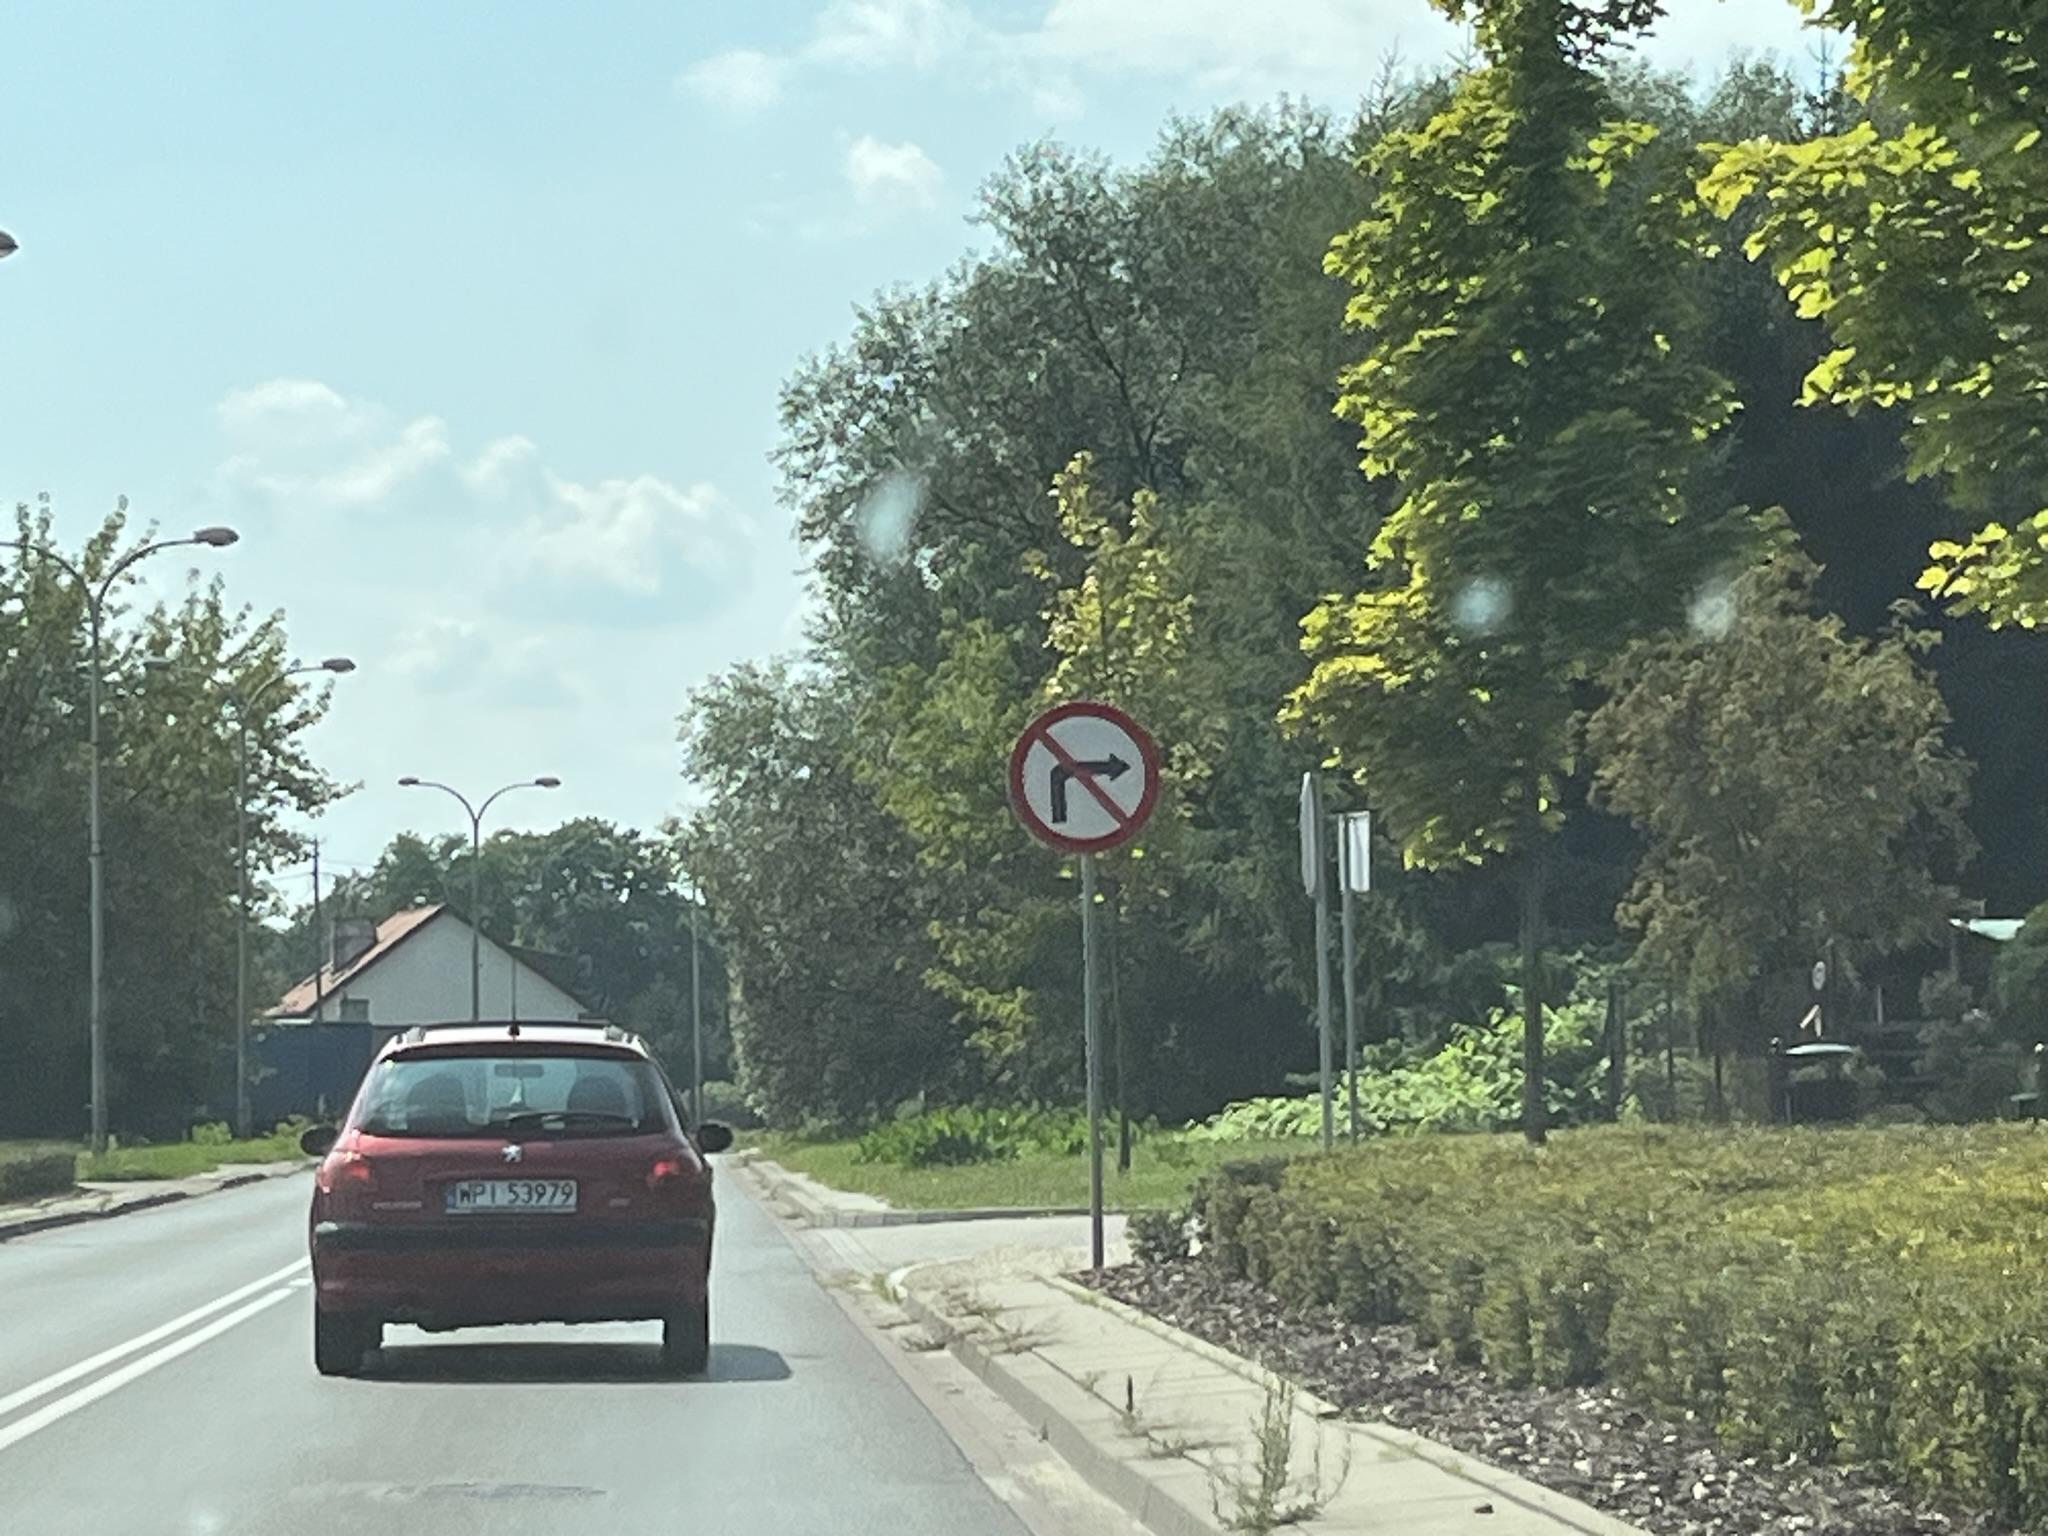prohibitory: (1008, 700, 1163, 855)
